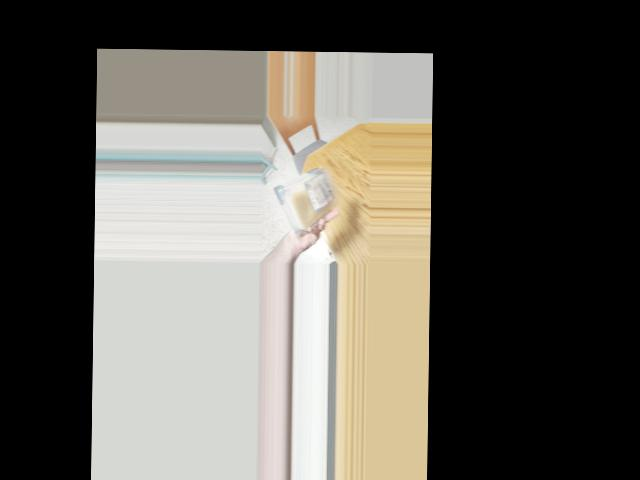cheese: (284, 169, 335, 230)
